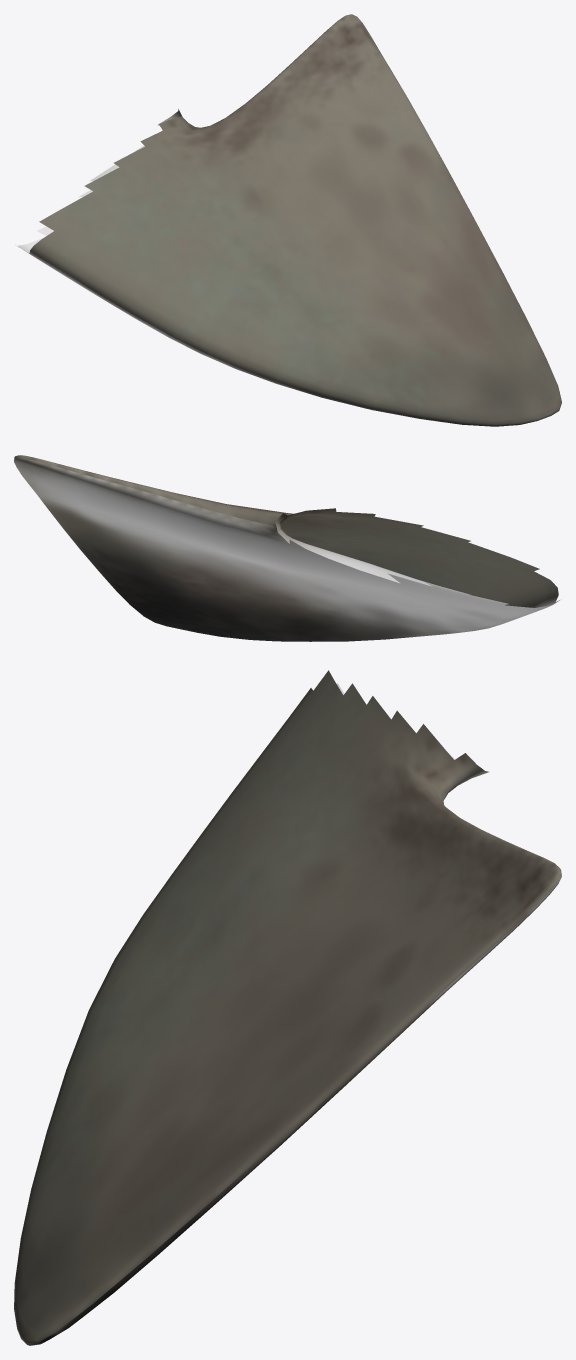
Rendered from aletaizq2.obj.
3 views of the same model, one above another, from view 1: azimuth 30°, elevation 25°; view 2: azimuth 150°, elevation 25°; view 3: azimuth 270°, elevation 25° (orthographic). The views are drawn at different scales.
Visible parts, largest first — view 1: polySurface7 polySurface6 polySurface4 polySurface2 _Shark_v2_L1; view 2: polySurface7 polySurface6 polySurface4 polySurface2 _Shark_v2_L1; view 3: polySurface7 polySurface6 polySurface4 polySurface2 _Shark_v2_L1.
Boxes of the visible parts, x1,y1,x2,y2 form: polySurface7 polySurface6 polySurface4 polySurface2 _Shark_v2_L1: [16, 14, 561, 426]; polySurface7 polySurface6 polySurface4 polySurface2 _Shark_v2_L1: [14, 455, 559, 641]; polySurface7 polySurface6 polySurface4 polySurface2 _Shark_v2_L1: [14, 670, 561, 1345].
Size of the model in its own units: 0.6812 by 0.4074 by 0.4515.
1 material, 1 textured.
